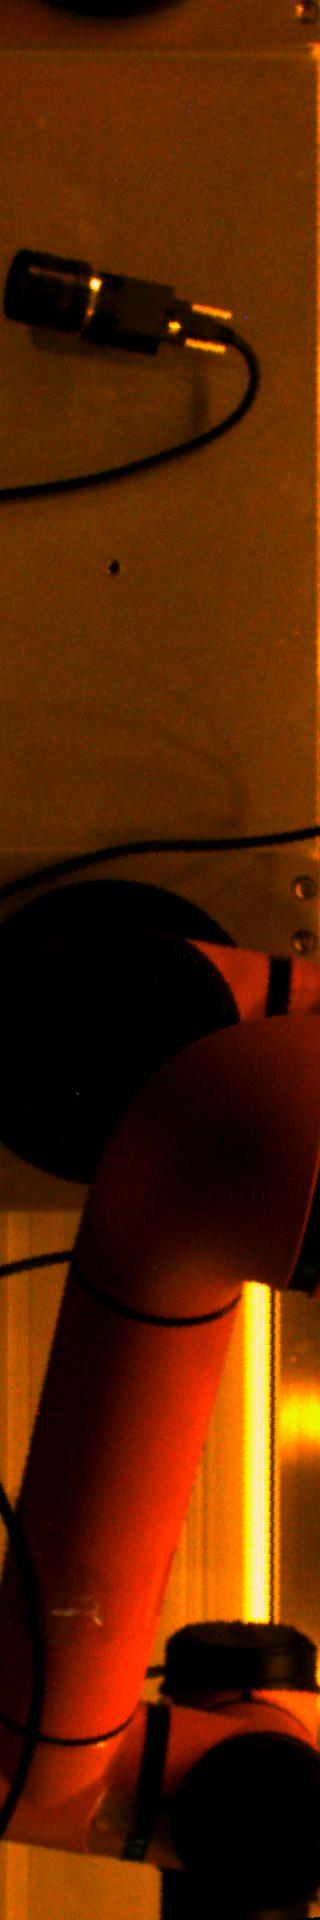keyPoint_2: (98, 555, 128, 585)
